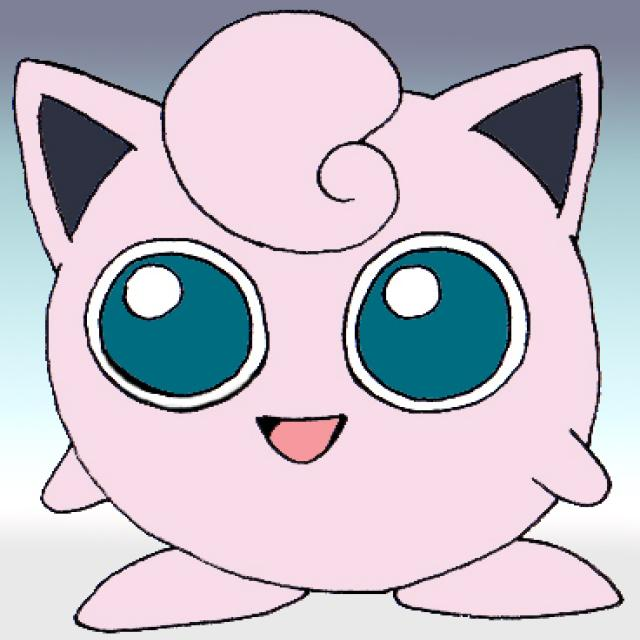Jigglypuff: (4, 21, 640, 640)
